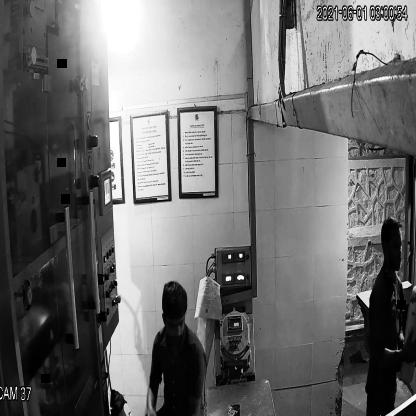no_goggles: (163, 314, 187, 333)
